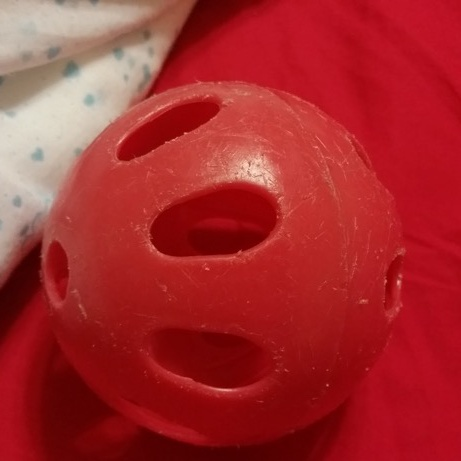redball: (36, 75, 414, 452)
